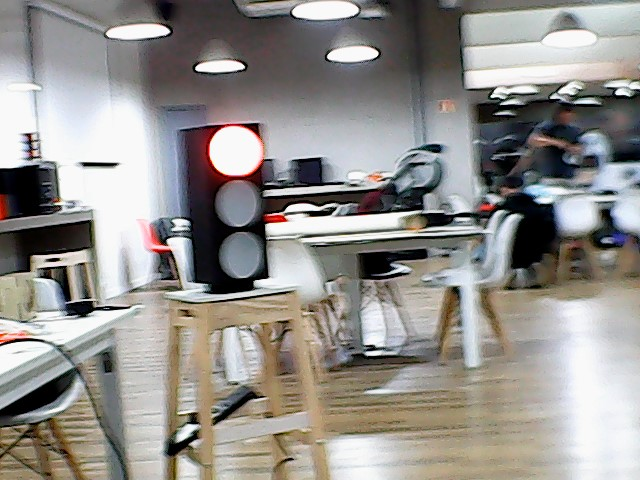vermelho: (174, 122, 275, 285)
